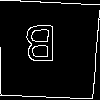B: (23, 25, 57, 72)
